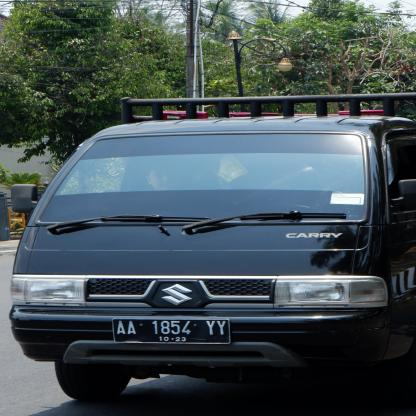Plat-Nomor: (108, 314, 238, 351)
